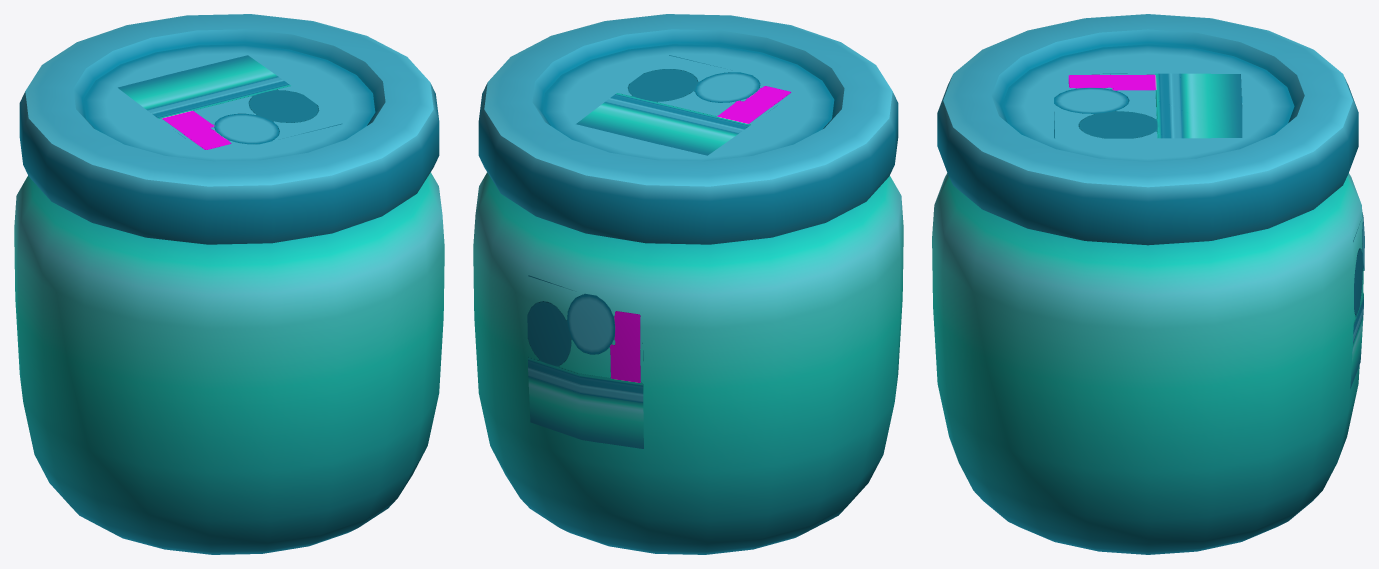
Rendered from Glass.fbx.
3 views of the same model, side by side, from view 1: azimuth 30°, elevation 25°; view 2: azimuth 150°, elevation 25°; view 3: azimuth 270°, elevation 25° (orthographic).
Visible parts, largest first — view 1: mdl_Glass, mdl_Glass_1; view 2: mdl_Glass, mdl_Glass_1; view 3: mdl_Glass, mdl_Glass_1.
Boxes of the visible parts, x1=… form: mdl_Glass: x1=14, y1=14, x2=444, y2=554; mdl_Glass_1: x1=118, y1=55, x2=342, y2=149; mdl_Glass: x1=473, y1=14, x2=903, y2=554; mdl_Glass_1: x1=527, y1=55, x2=791, y2=448; mdl_Glass: x1=932, y1=14, x2=1363, y2=554; mdl_Glass_1: x1=1054, y1=73, x2=1364, y2=388.
Size of the model in its own units: 100 by 100 by 100.
1 material, 1 textured.
